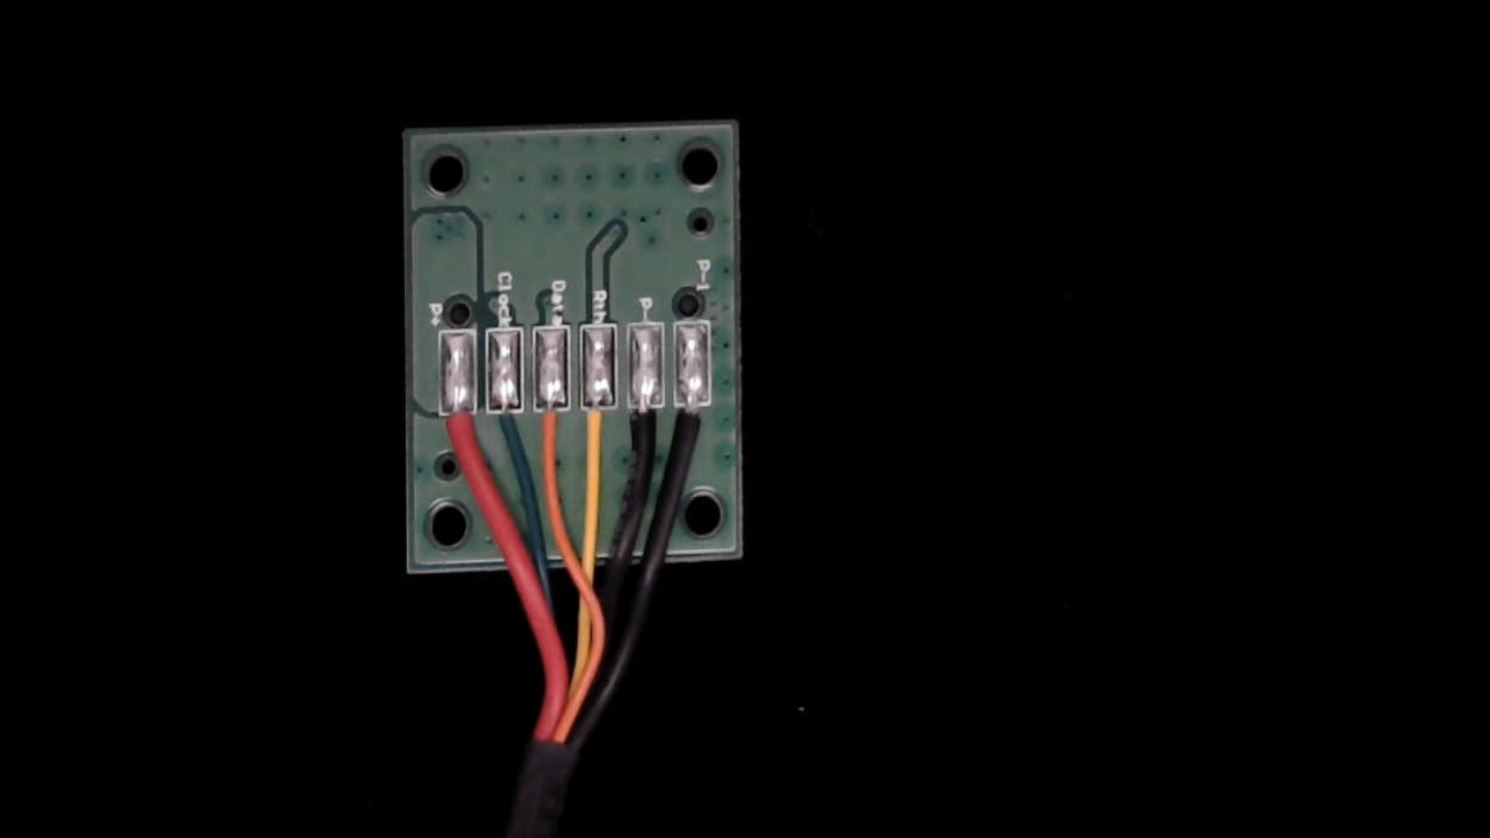Black: (627, 383, 664, 473)
Black1: (675, 382, 710, 462)
Green: (485, 389, 522, 471)
Orange: (533, 387, 567, 471)
Red: (440, 395, 478, 488)
Yellow: (581, 383, 616, 477)
